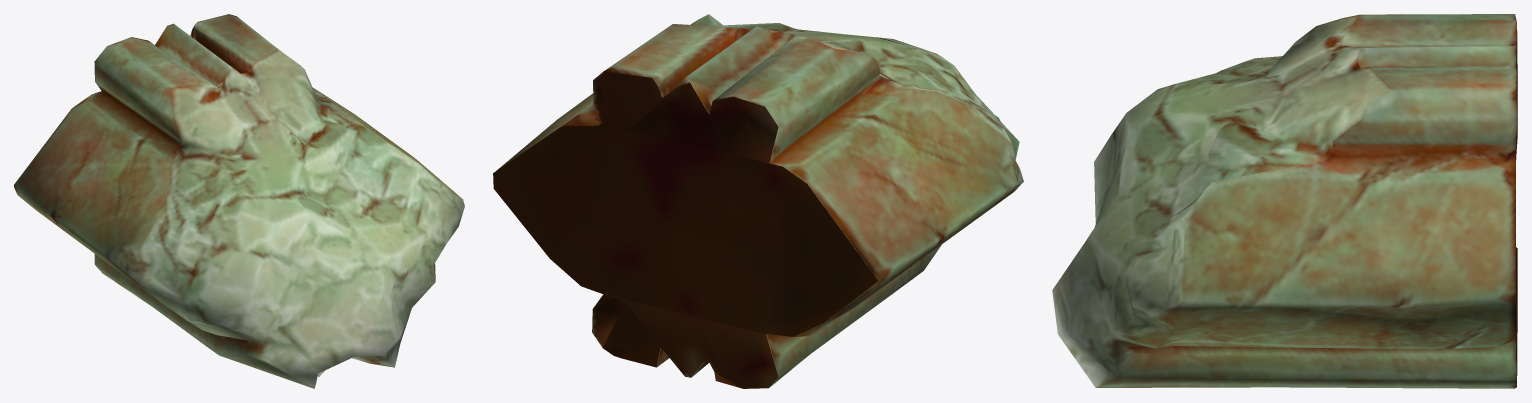
Rendered from Ruins_Collumn_Dmg_A.obj.
3 views of the same model, side by side, from view 1: azimuth 30°, elevation 25°; view 2: azimuth 150°, elevation 25°; view 3: azimuth 270°, elevation 25° (orthographic). The views are drawn at different scales.
Parts seen in each view (by area): view 1: Dn_HL_Ruins_Collumn_DMG_A; view 2: Dn_HL_Ruins_Collumn_DMG_A; view 3: Dn_HL_Ruins_Collumn_DMG_A.
Boxes of the visible parts, x1,y1,x2,y2 form: Dn_HL_Ruins_Collumn_DMG_A: [14, 14, 464, 388]; Dn_HL_Ruins_Collumn_DMG_A: [493, 14, 1023, 388]; Dn_HL_Ruins_Collumn_DMG_A: [1052, 14, 1517, 388].
Size of the model in its own units: 4.32 by 3.09 by 4.16.
